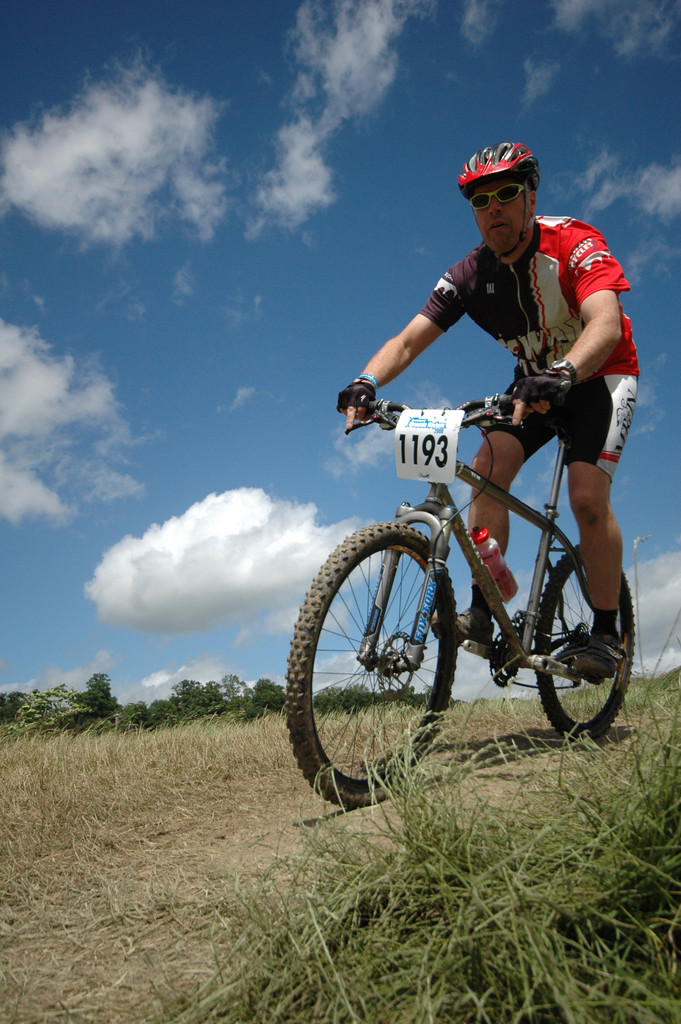Bike: (235, 385, 667, 822)
